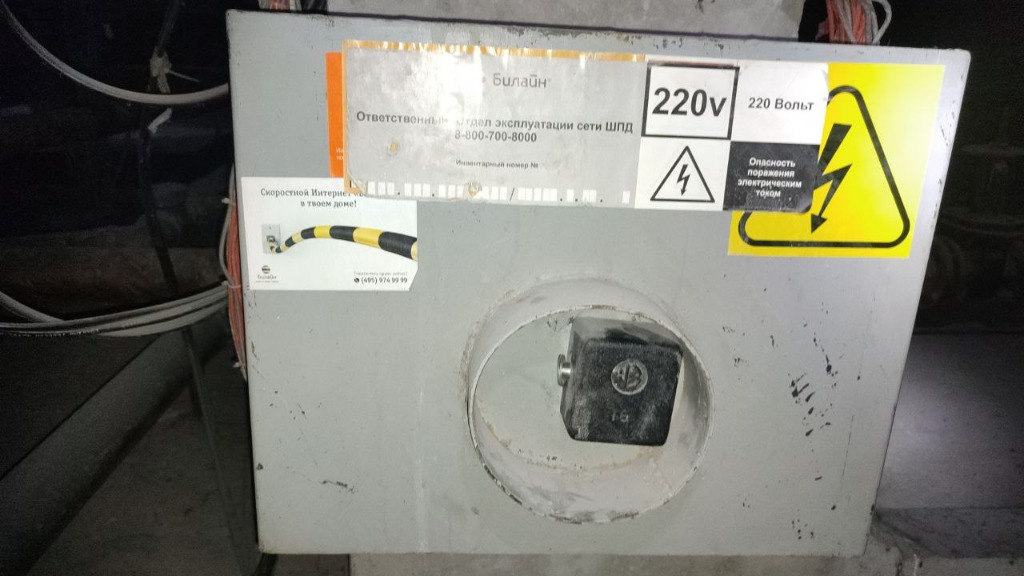shta-3: (224, 8, 978, 560)
